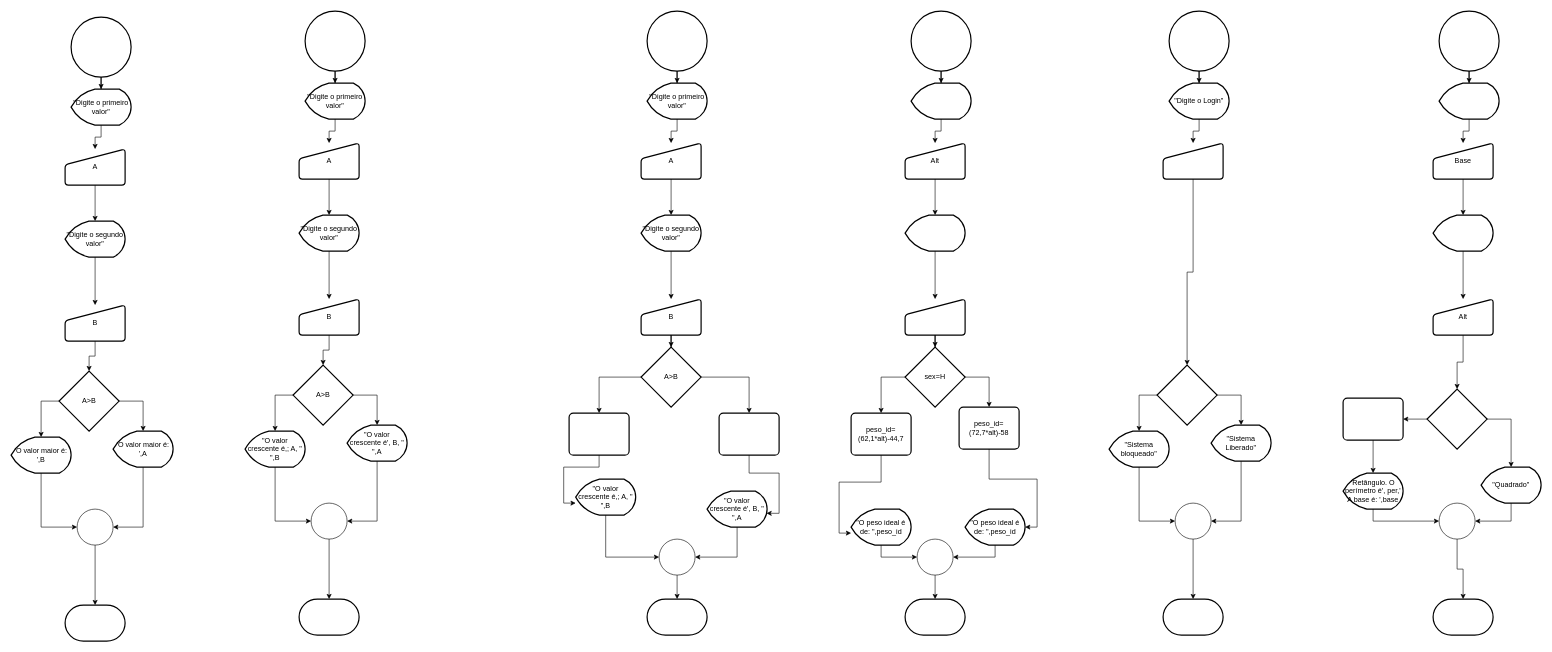
Image size: 1552x652. Some labels were removed from this diagram. Each missing label, with the centre of its shape:
"Digite a altura": pixel 1462 232
"Digite a base: pixel 1468 100
"Digite seu sexo, sendo H [Homem] ou M [Mulher]": pixel 934 232
"Digite sua Altura": pixel 940 100
A-B: pixel 748 433
B-A: pixel 598 433
Base = Alt: pixel 1456 418
Login: pixel 1192 160
Login = 1234: pixel 1186 394
per=Alt*2+base*2, area=base*alt: pixel 1372 418
sex: pixel 934 316
